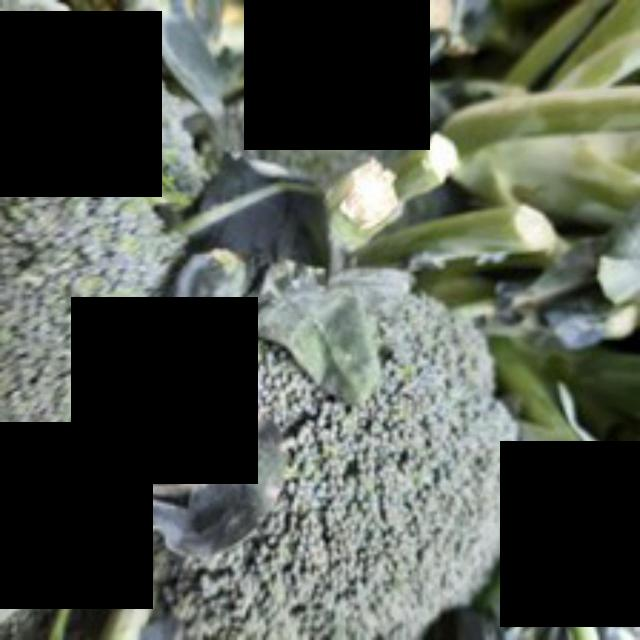broccoli: (149, 231, 531, 637)
